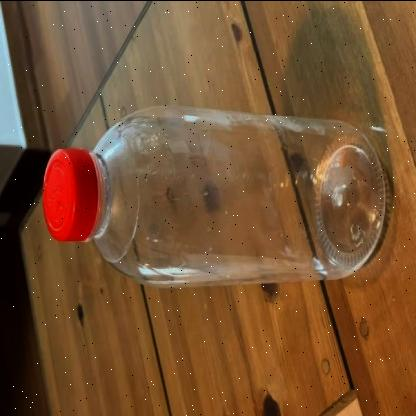Plastic Bottle: (42, 105, 392, 286)
